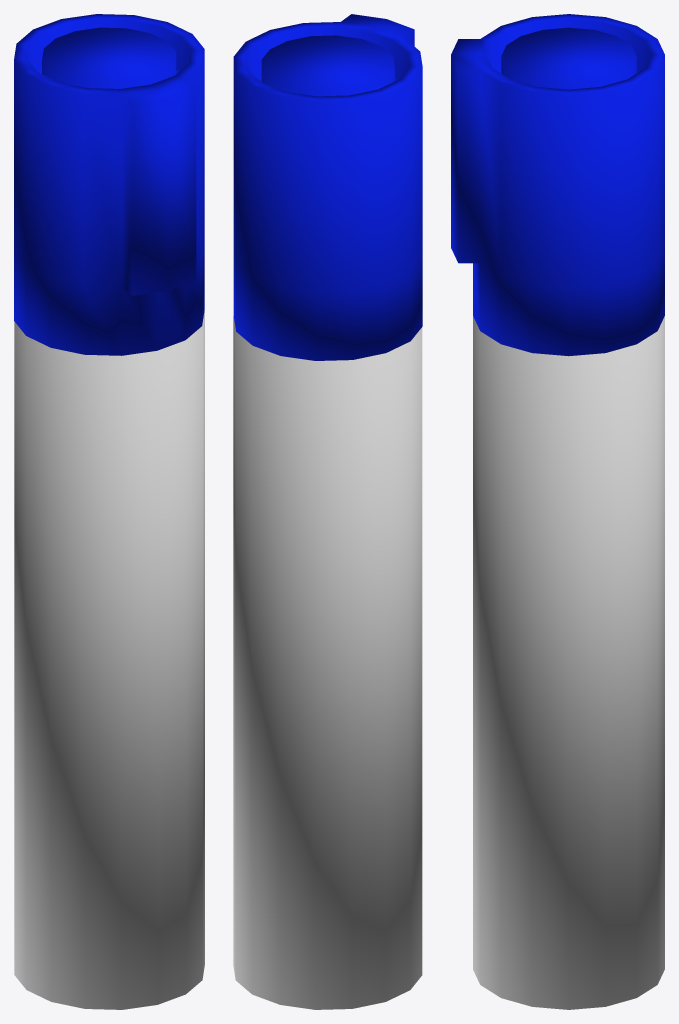
The model's file is whiteboard_marker.fbx.
3 renders of one model, left to right at view 1: azimuth 30°, elevation 25°; view 2: azimuth 150°, elevation 25°; view 3: azimuth 270°, elevation 25°, orthographic.
Visible parts, largest first — view 1: Cylinder.001; view 2: Cylinder.001; view 3: Cylinder.001.
Boxes of the visible parts, left/top/right/bottom form: Cylinder.001: left=14, top=14, right=204, bottom=1009; Cylinder.001: left=233, top=14, right=422, bottom=1009; Cylinder.001: left=451, top=14, right=664, bottom=1009.
Bounding box in the file's own units: 8.02 × 42.04 × 8.91.
